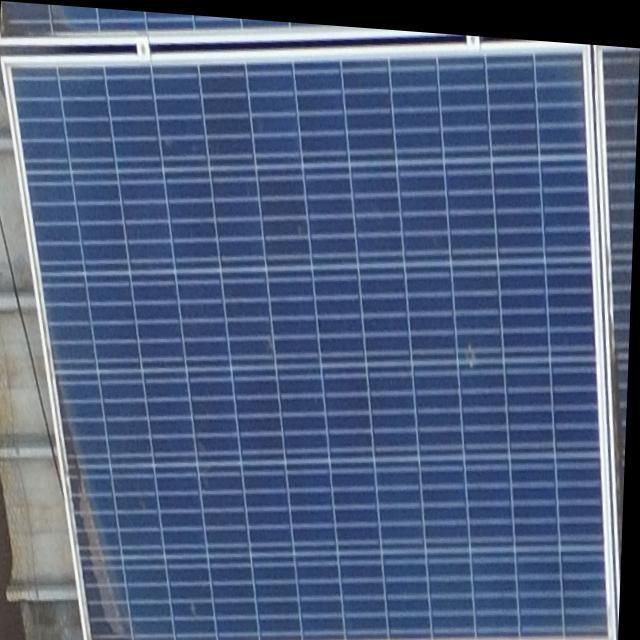Surface Contaminant: (53, 359, 137, 638), (599, 47, 640, 566), (455, 328, 486, 381)
